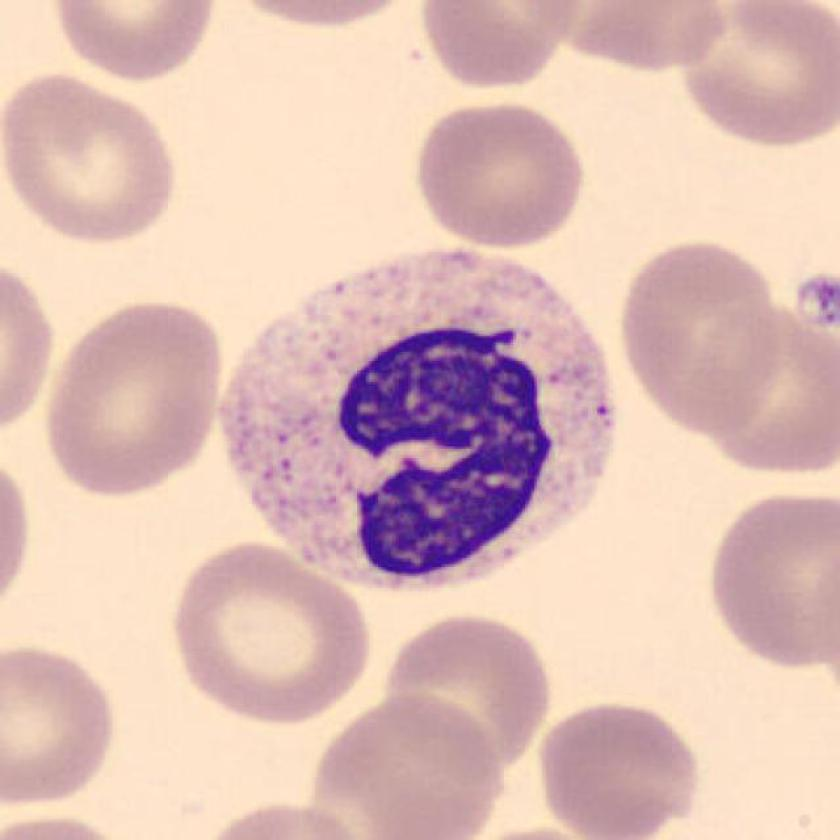neutrophil: (217, 252, 616, 593)
